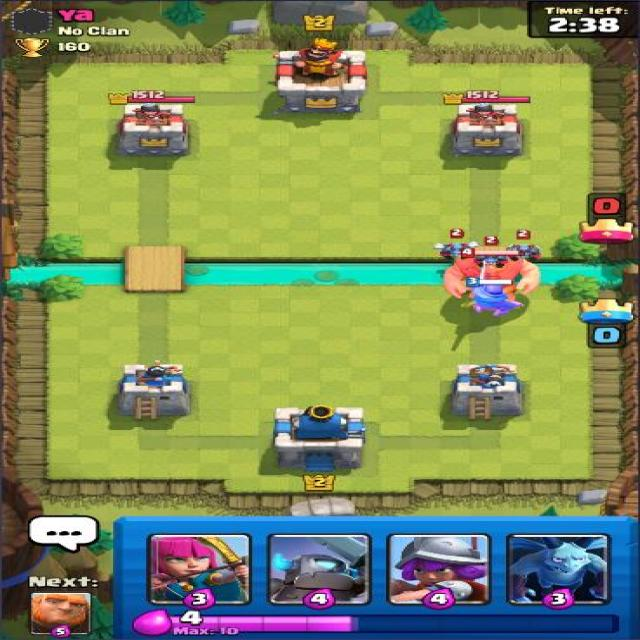Enemy-Giant: (438, 248, 546, 310)
Enemy-Minion: (428, 226, 483, 263), (471, 235, 515, 271), (503, 227, 546, 263)
Player-Knight: (462, 258, 530, 319)
